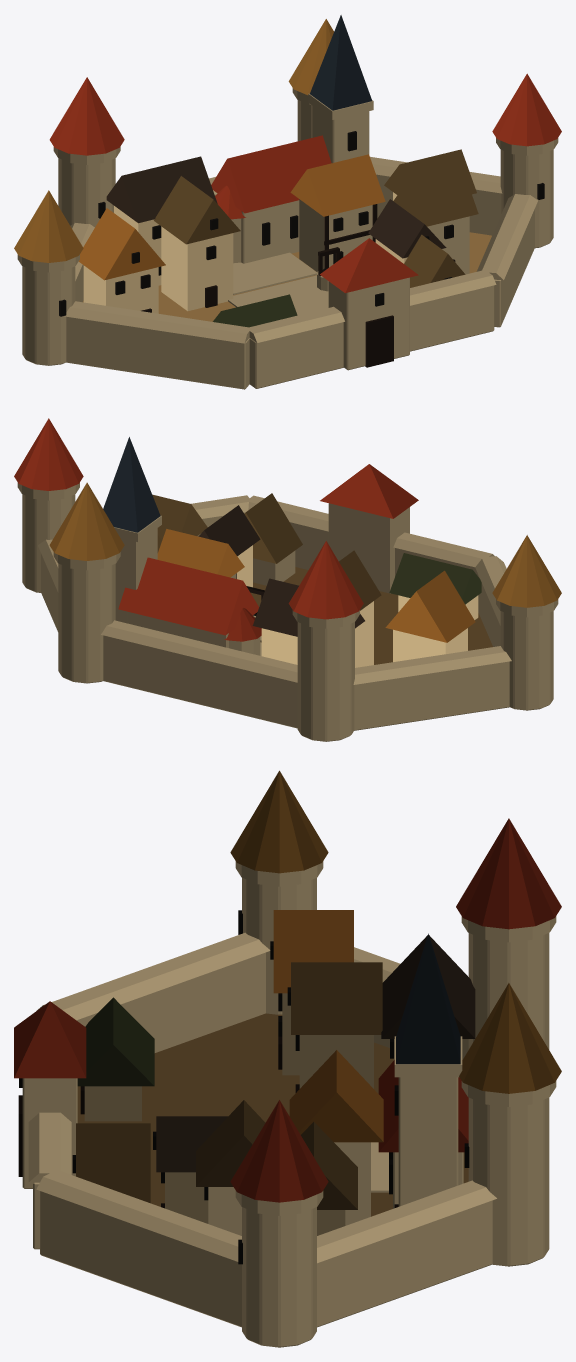
Rendered from settle_1_1.obj.
3 renders of one model, top to bottom at view 1: azimuth 30°, elevation 25°; view 2: azimuth 150°, elevation 25°; view 3: azimuth 270°, elevation 25°, orthographic. The views are drawn at different scales.
Visible parts, largest first — view 1: core_stone, core_roof_civic, core_roof_thatch_old, core_plaster, core_roof_thatch, core_roof_shingle, core_thatch, core_slate, core_wood_dark, core_window, core_cloth, core_roof_moss; view 2: core_stone, core_roof_civic, core_thatch, core_roof_thatch, core_roof_thatch_old, core_plaster, core_roof_shingle, core_slate, core_roof_moss, core_cloth; view 3: core_stone, core_roof_civic, core_roof_thatch_old, core_cloth, core_thatch, core_roof_thatch, core_plaster, core_roof_shingle, core_slate, core_roof_moss, core_window, core_wood_dark.
Part boxes in pixels (bbox=[...]): core_stone: bbox=[17, 88, 558, 389]; core_roof_civic: bbox=[49, 73, 561, 293]; core_roof_thatch_old: bbox=[154, 149, 478, 287]; core_plaster: bbox=[83, 192, 407, 313]; core_roof_thatch: bbox=[78, 154, 385, 280]; core_roof_shingle: bbox=[106, 156, 446, 258]; core_thatch: bbox=[14, 19, 333, 262]; core_slate: bbox=[310, 15, 372, 110]; core_wood_dark: bbox=[141, 204, 455, 367]; core_window: bbox=[59, 131, 544, 316]; core_cloth: bbox=[83, 232, 491, 321]; core_roof_moss: bbox=[213, 294, 297, 327]; core_stone: bbox=[17, 482, 558, 741]; core_roof_civic: bbox=[14, 418, 418, 641]; core_thatch: bbox=[49, 482, 561, 607]; core_roof_thatch: bbox=[157, 529, 475, 642]; core_roof_thatch_old: bbox=[152, 493, 381, 610]; core_plaster: bbox=[236, 545, 478, 667]; core_roof_shingle: bbox=[198, 505, 364, 636]; core_slate: bbox=[103, 437, 160, 532]; core_roof_moss: bbox=[389, 553, 481, 604]; core_cloth: bbox=[250, 567, 492, 664]; core_stone: bbox=[22, 861, 556, 1347]; core_roof_civic: bbox=[14, 818, 561, 1202]; core_roof_thatch_old: bbox=[76, 962, 382, 1209]; core_cloth: bbox=[77, 1013, 468, 1216]; core_thatch: bbox=[230, 770, 561, 1093]; core_roof_thatch: bbox=[273, 910, 383, 1142]; core_plaster: bbox=[84, 993, 462, 1235]; core_roof_shingle: bbox=[156, 935, 475, 1172]; core_slate: bbox=[396, 933, 460, 1064]; core_roof_moss: bbox=[77, 997, 154, 1086]; core_window: bbox=[19, 910, 469, 1264]; core_wood_dark: bbox=[18, 1036, 398, 1208].
Size of the model in its own units: 1.53 by 0.592 by 0.9566.
